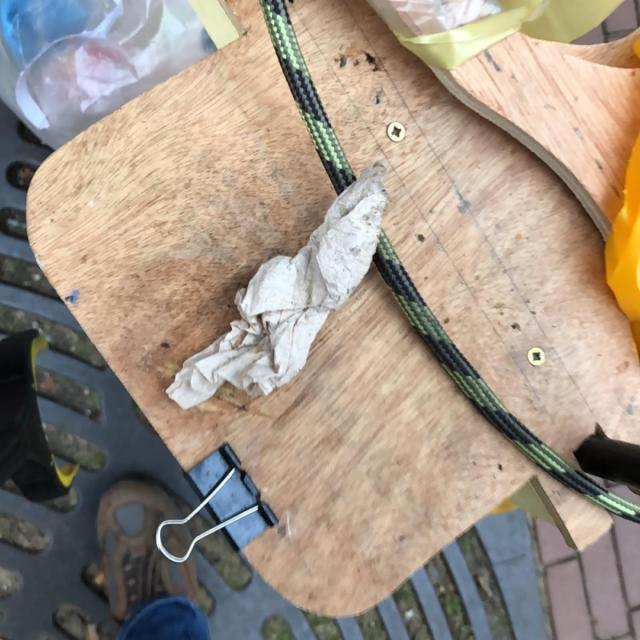Paper: (162, 158, 390, 412)
